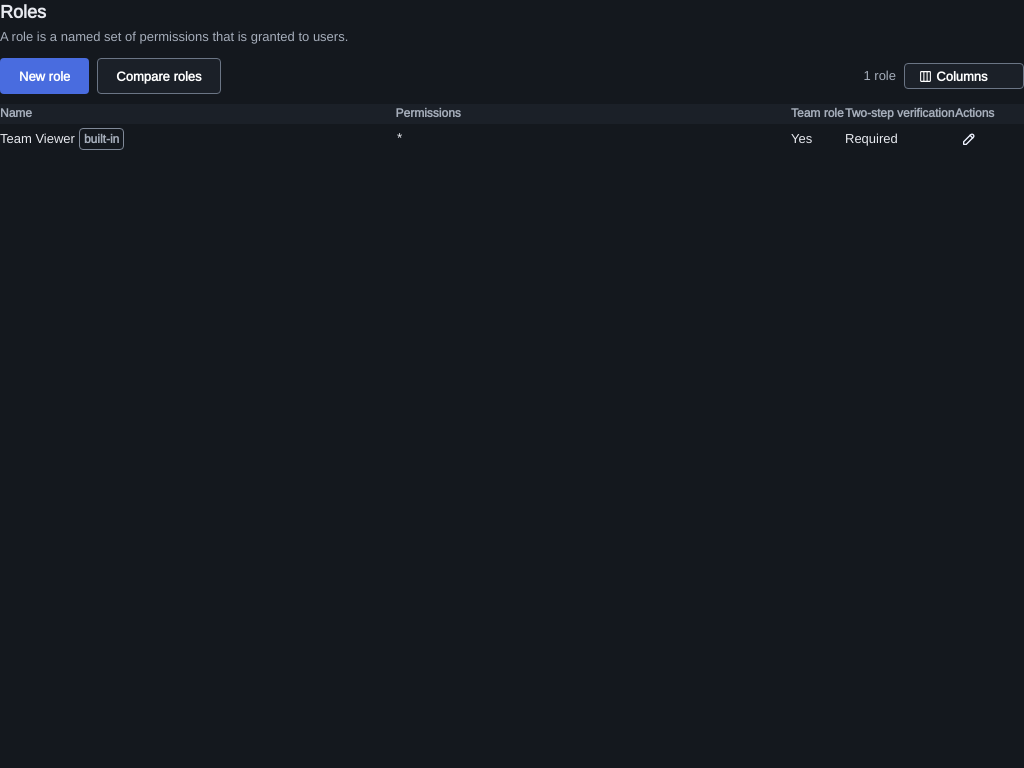
Test: RolesPanel editor › shows a built-in role as a team role or not, as a fact
The width and height of the screenshot is (1024, 768).
Click the button named "Edit Team Viewer" at [969, 139], box [955,125,983,153]
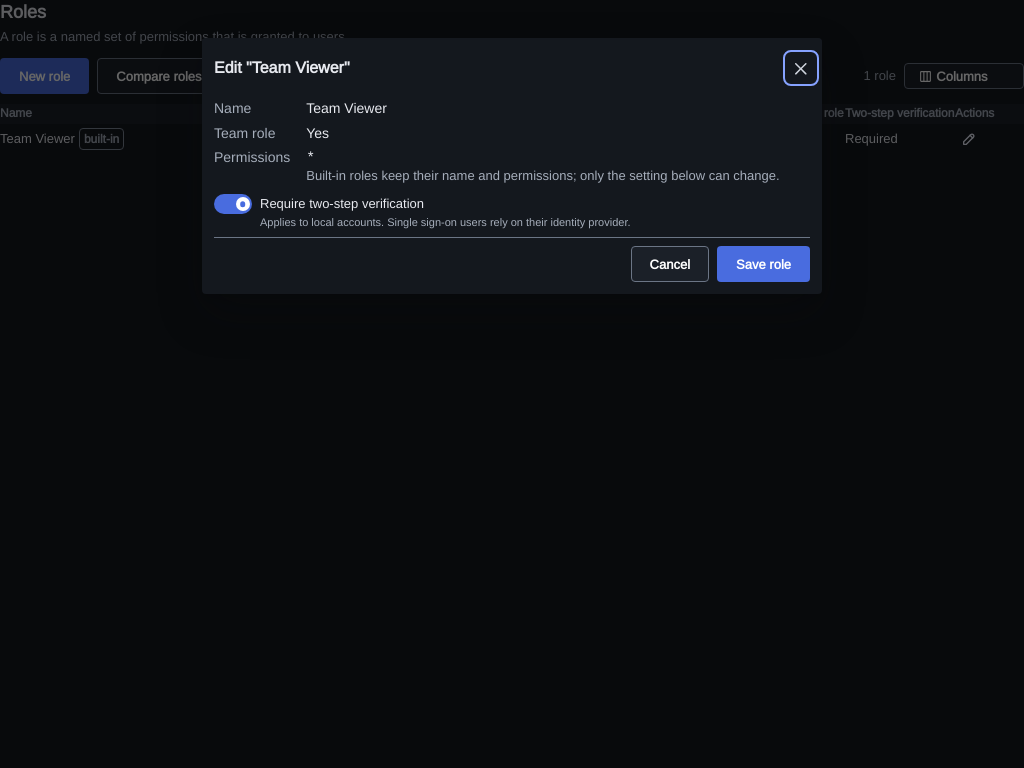
Check: the text "Team role" is shown, box [214,124,276,142]
Check: the text "Yes" is shown, box [306,124,329,142]
